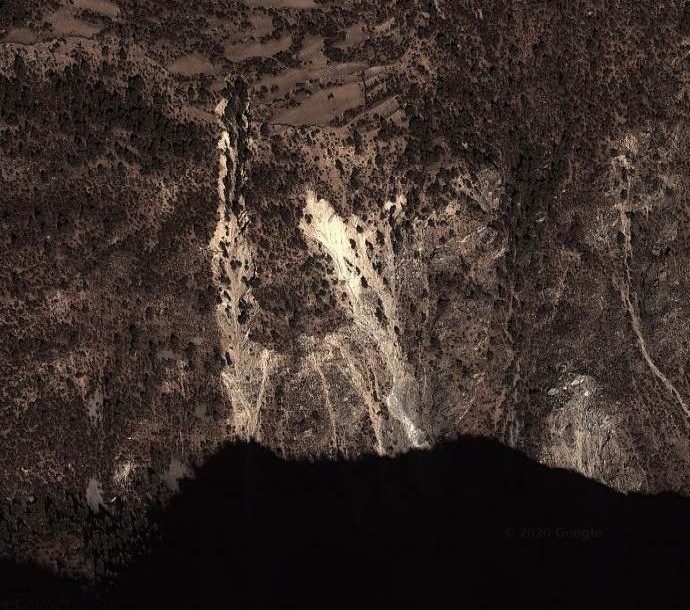slope: (204, 92, 429, 454)
